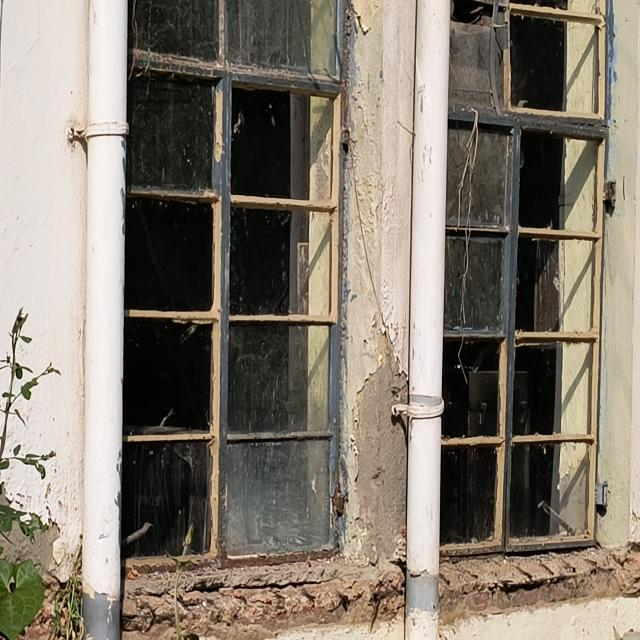peeling: (355, 358, 406, 559), (0, 525, 59, 580)
spalling: (439, 543, 640, 638), (179, 557, 404, 640), (123, 561, 174, 640)
stain_mould: (35, 546, 84, 640)
